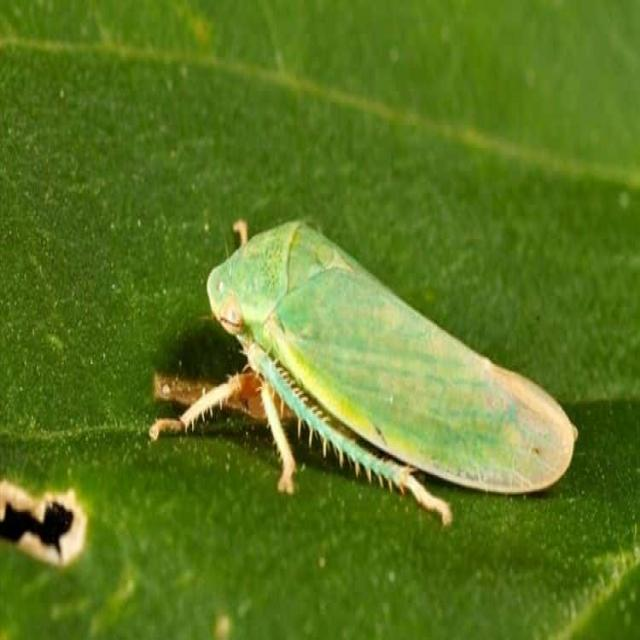Yechan: (174, 188, 574, 526)
